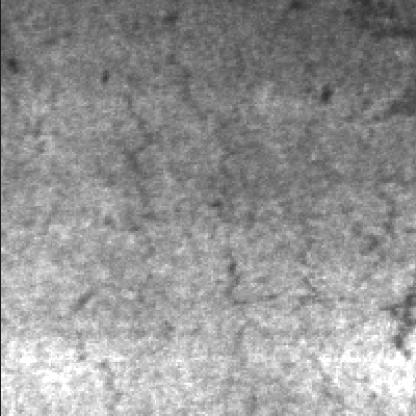crazing: (72, 18, 264, 410), (298, 110, 400, 404)
